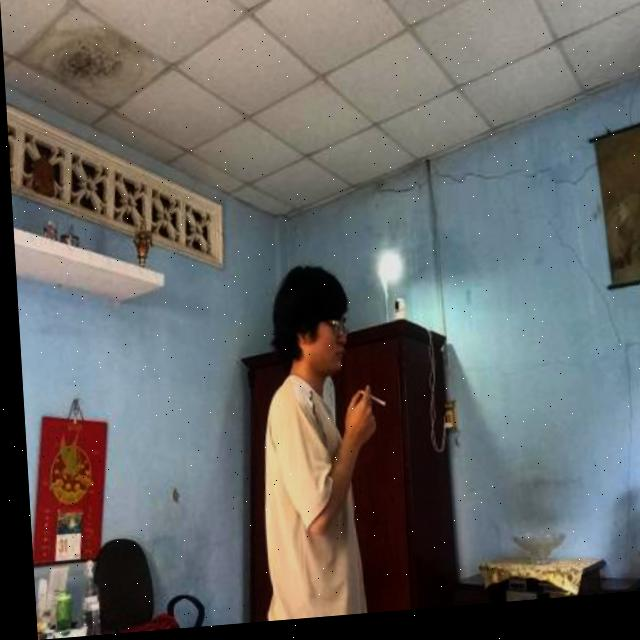cigarette: (355, 394, 380, 415)
